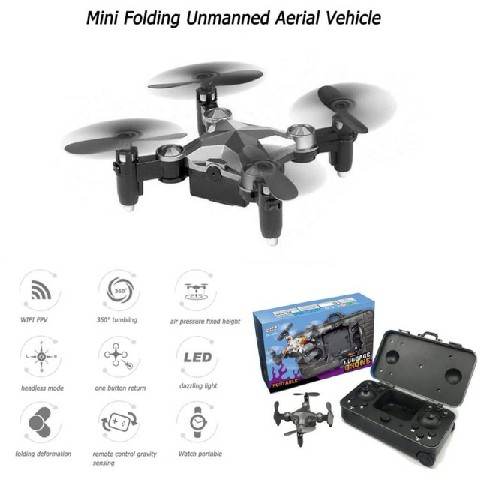maybay_khongnguoilai: (65, 57, 397, 240)
